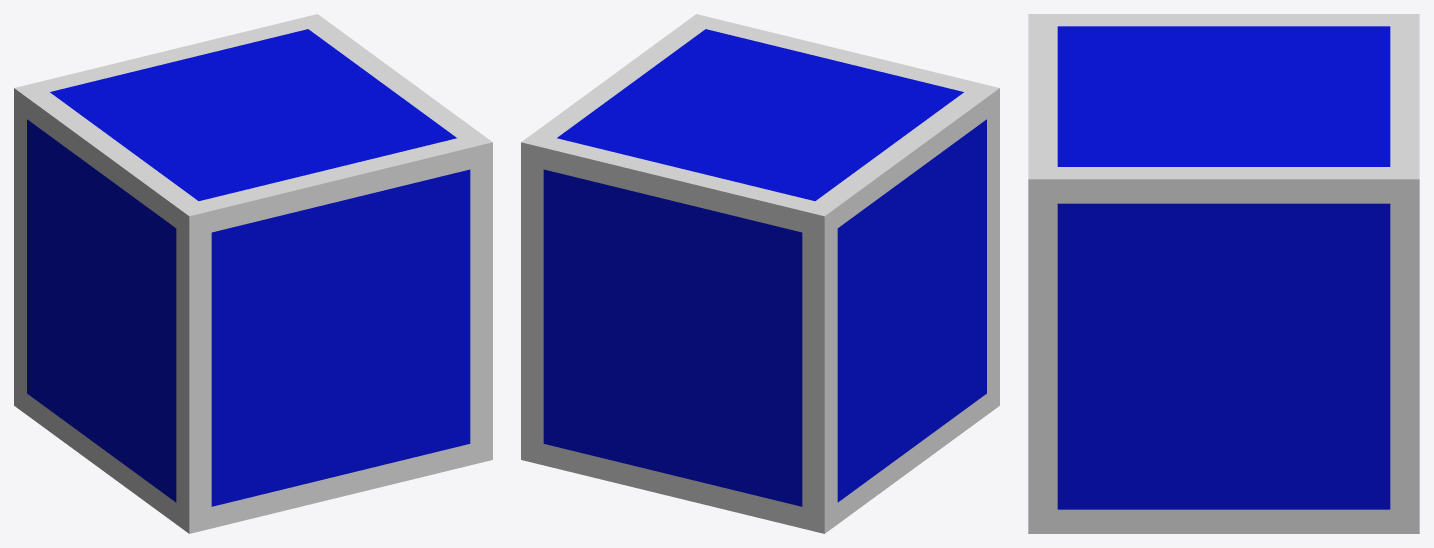
Rendered from BlueCube.dae.
The picture shows the model from 3 angles, left to right: view 1: azimuth 30°, elevation 25°; view 2: azimuth 150°, elevation 25°; view 3: azimuth 270°, elevation 25°; orthographic projection. The views are drawn at different scales.
Visible parts, largest first — view 1: Cube; view 2: Cube; view 3: Cube.
Part boxes in pixels (x1,y1,x2,y2): Cube: (14, 14, 492, 533); Cube: (521, 14, 999, 533); Cube: (1028, 14, 1419, 533).
Bounding box in the file's own units: 0.055 × 0.055 × 0.055.
